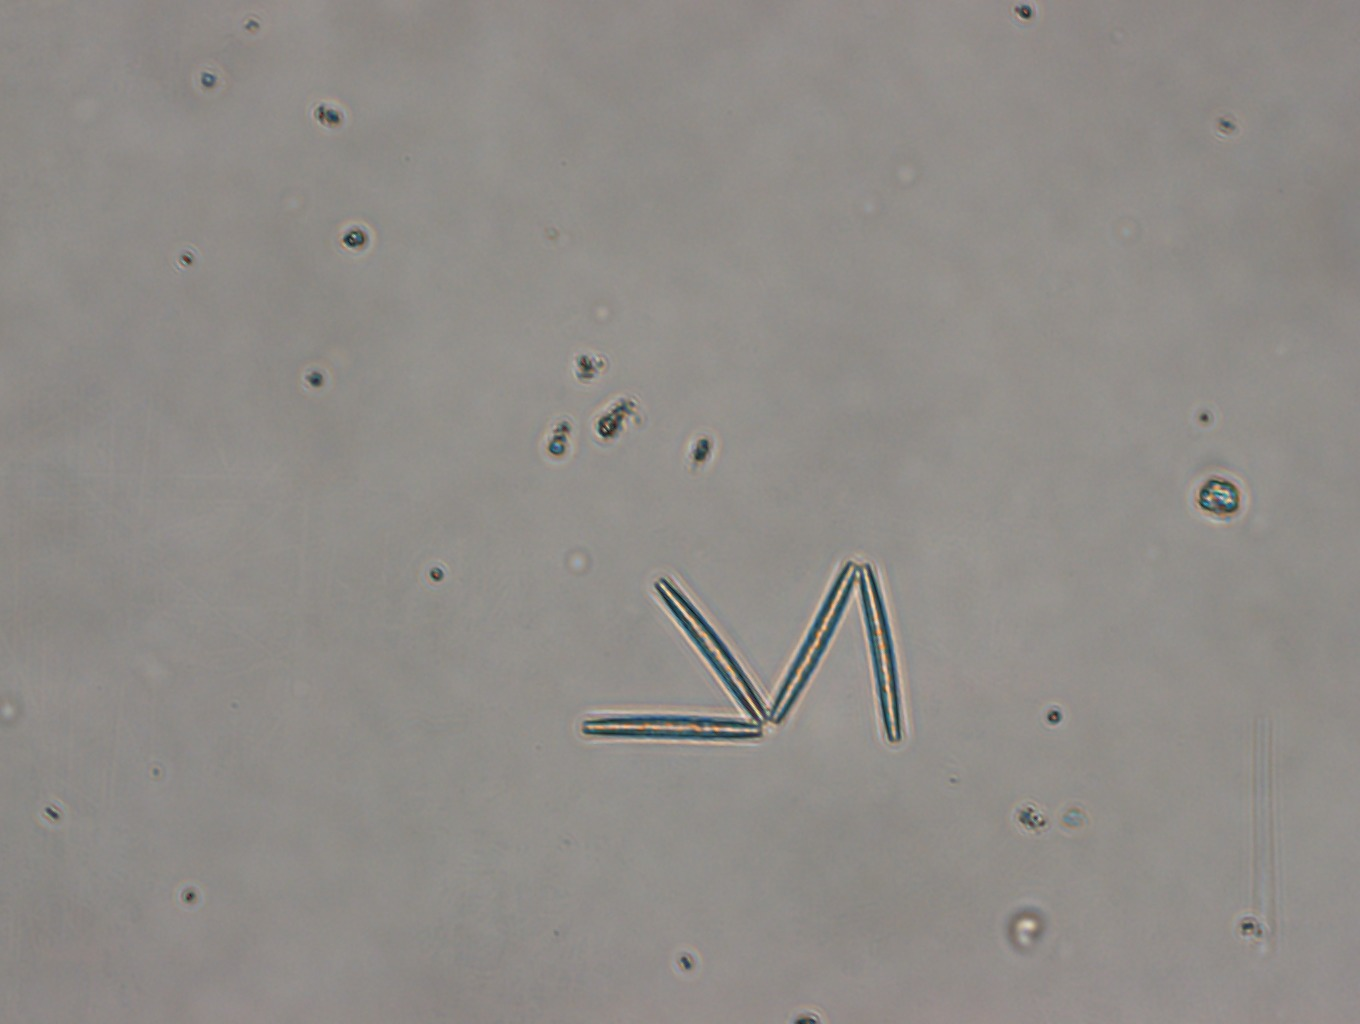thalassionema nitzschioides: (573, 551, 921, 746)
